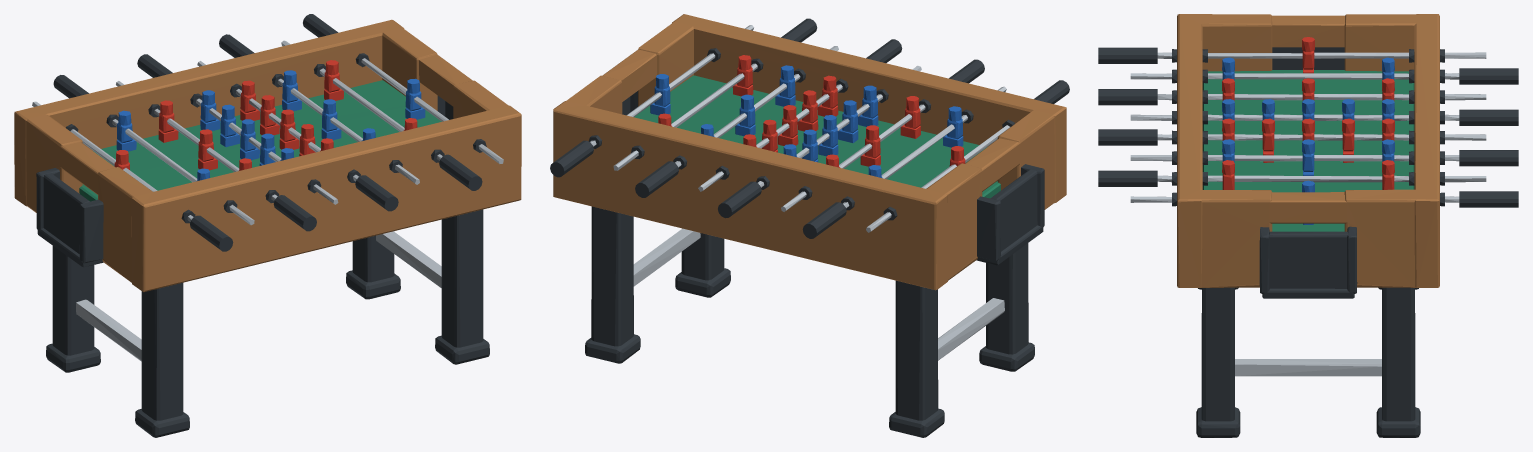
File: NEW_RECOVERY_128_LOD2.glb
3 views of the same model, side by side, from view 1: azimuth 30°, elevation 25°; view 2: azimuth 150°, elevation 25°; view 3: azimuth 270°, elevation 25° (orthographic).
Parts seen in each view (by area): view 1: Foosball_static_LOD2; view 2: Foosball_static_LOD2; view 3: Foosball_static_LOD2.
Boxes of the visible parts, bbox=[...] form: Foosball_static_LOD2: bbox=[14, 14, 521, 437]; Foosball_static_LOD2: bbox=[550, 14, 1069, 437]; Foosball_static_LOD2: bbox=[1098, 14, 1518, 437].
Size of the model in its own units: 1.89 by 1.07 by 1.63.
